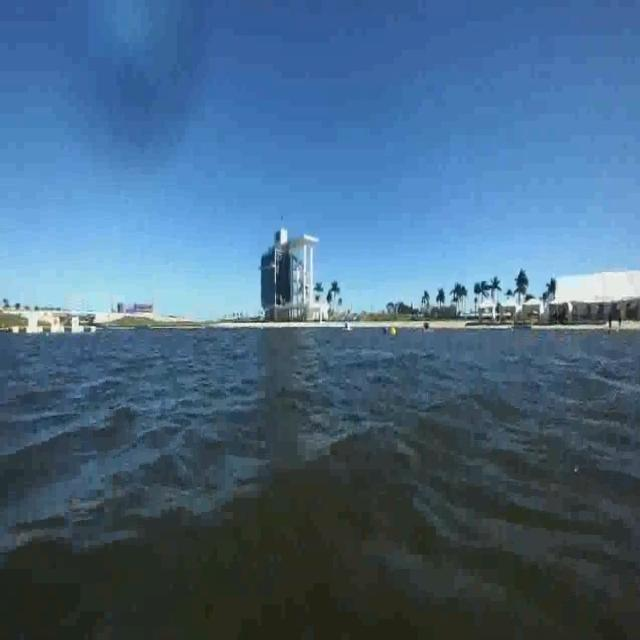yellow-buoy: (388, 327, 395, 341)
